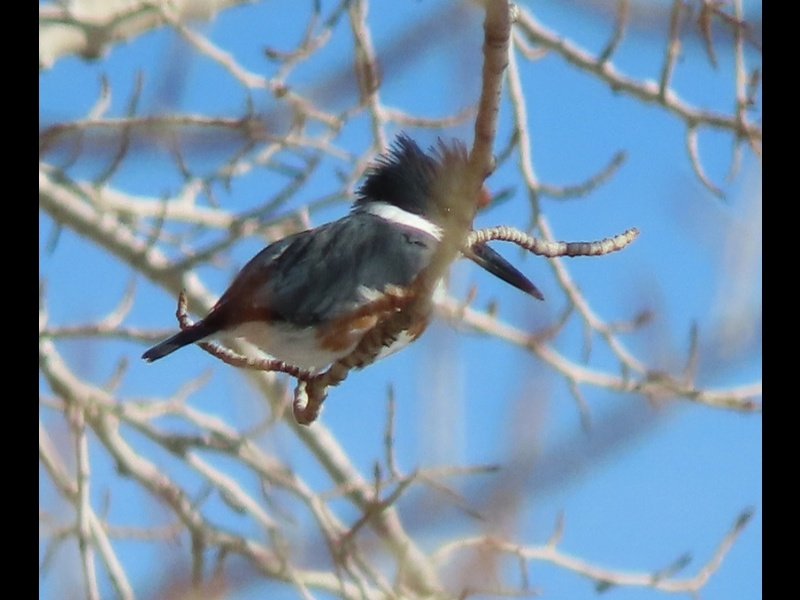kingfisher: (135, 131, 545, 380)
